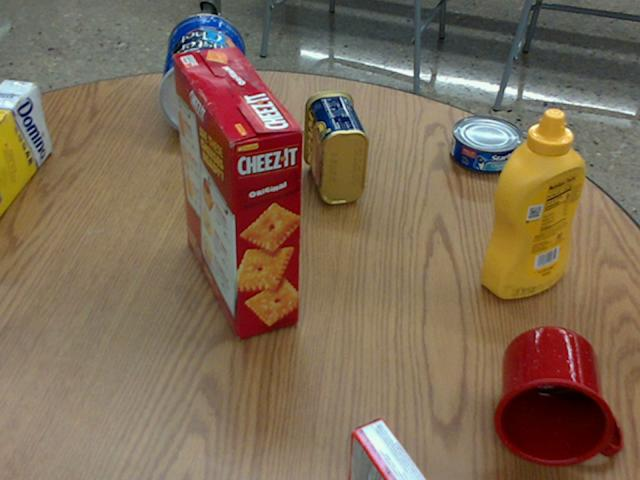cracker_box: (176, 49, 305, 337)
gelatin_box: (348, 420, 423, 479)
master_chef_can: (159, 14, 245, 137)
mug: (495, 326, 619, 466)
mustard_bottle: (480, 109, 585, 296)
potted_meat_can: (304, 89, 369, 203)
sugar_box: (0, 80, 51, 217)
tuna_fish_can: (450, 114, 522, 173)
